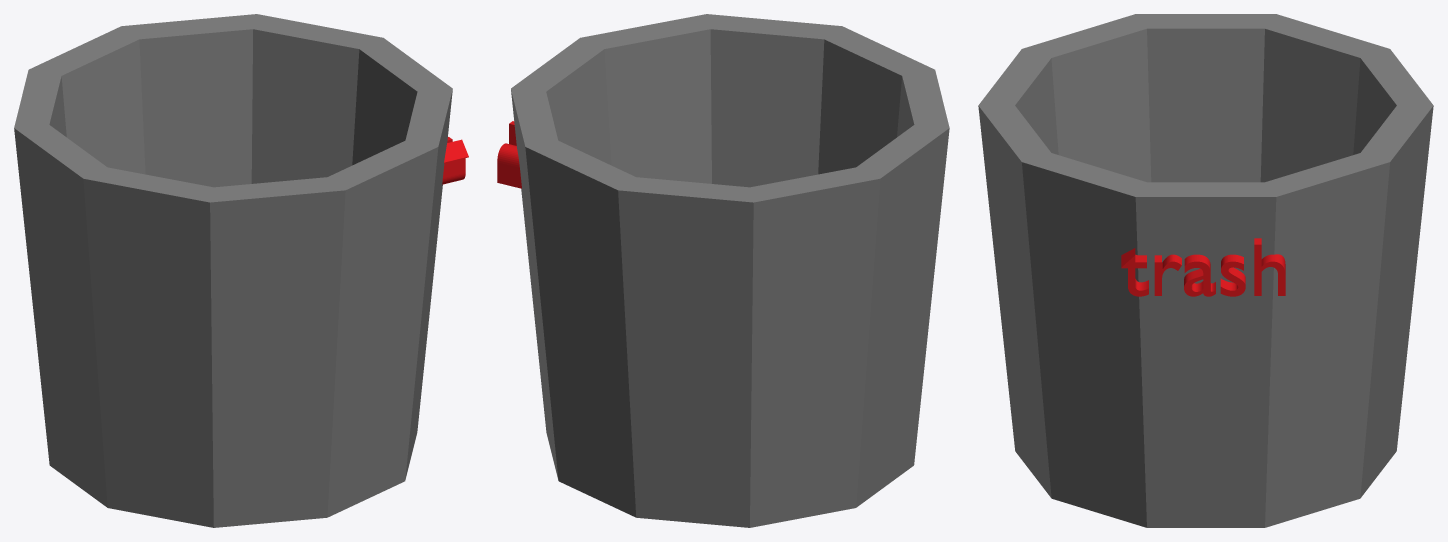
The model's file is trashcan (1).fbx.
3 views of the same model, side by side, from view 1: azimuth 30°, elevation 25°; view 2: azimuth 150°, elevation 25°; view 3: azimuth 270°, elevation 25° (orthographic).
Parts seen in each view (by area): view 1: Cylinder; view 2: Cylinder; view 3: Cylinder.
Part boxes in pixels (x1,y1,x2,y2): Cylinder: (14,14,468,527); Cylinder: (497,14,949,527); Cylinder: (978,14,1433,527).
Size of the model in its own units: 233 by 200 by 239.
